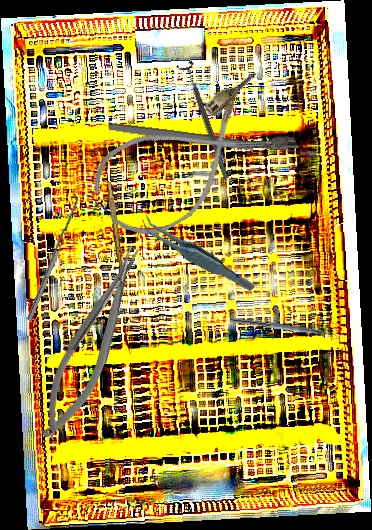Cannula: (82, 68, 302, 252)
Chopper: (228, 317, 344, 344)
Fixation Ring: (175, 59, 236, 182)
Needle Holder: (26, 241, 160, 446)
Scalpel Handle: (104, 181, 128, 288)
Spatula Surgical: (22, 192, 82, 321)
Surgical Spoon: (107, 120, 318, 162)
Tissue Forceps: (138, 196, 256, 313)
